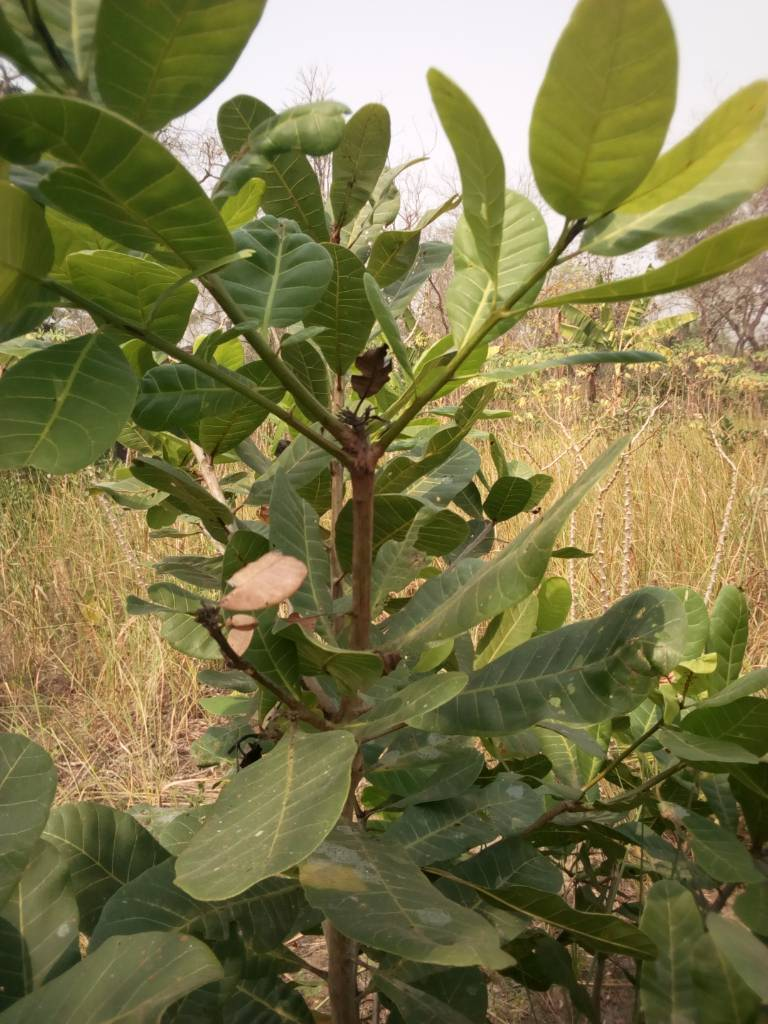Dessèchement des bourgeons: (197, 595, 262, 676)
